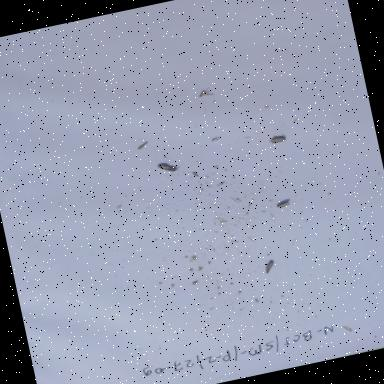pbw: (156, 160, 180, 176), (268, 133, 287, 144), (263, 258, 276, 273)
